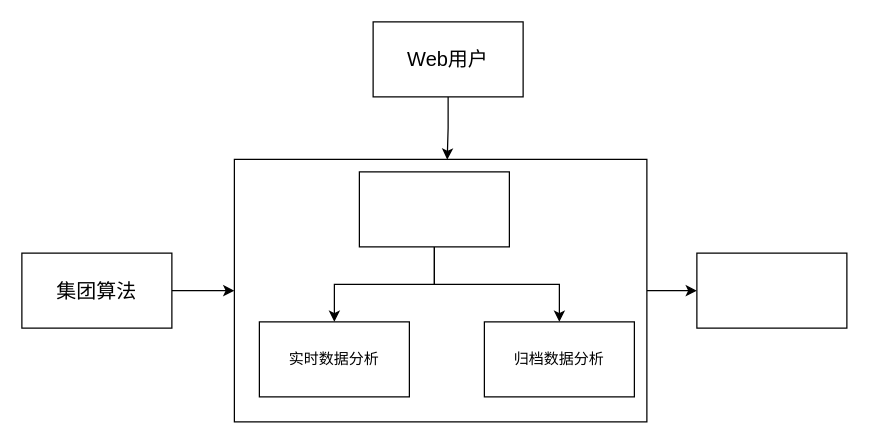
Some shapes in this 869 by 444 pixel diagram are drawn without their labels. Here are the shapes that lost their labels. From the top down, the box of each, then its label:
(358, 171, 509, 247): 保存计算结果
(696, 252, 847, 328): 客调
